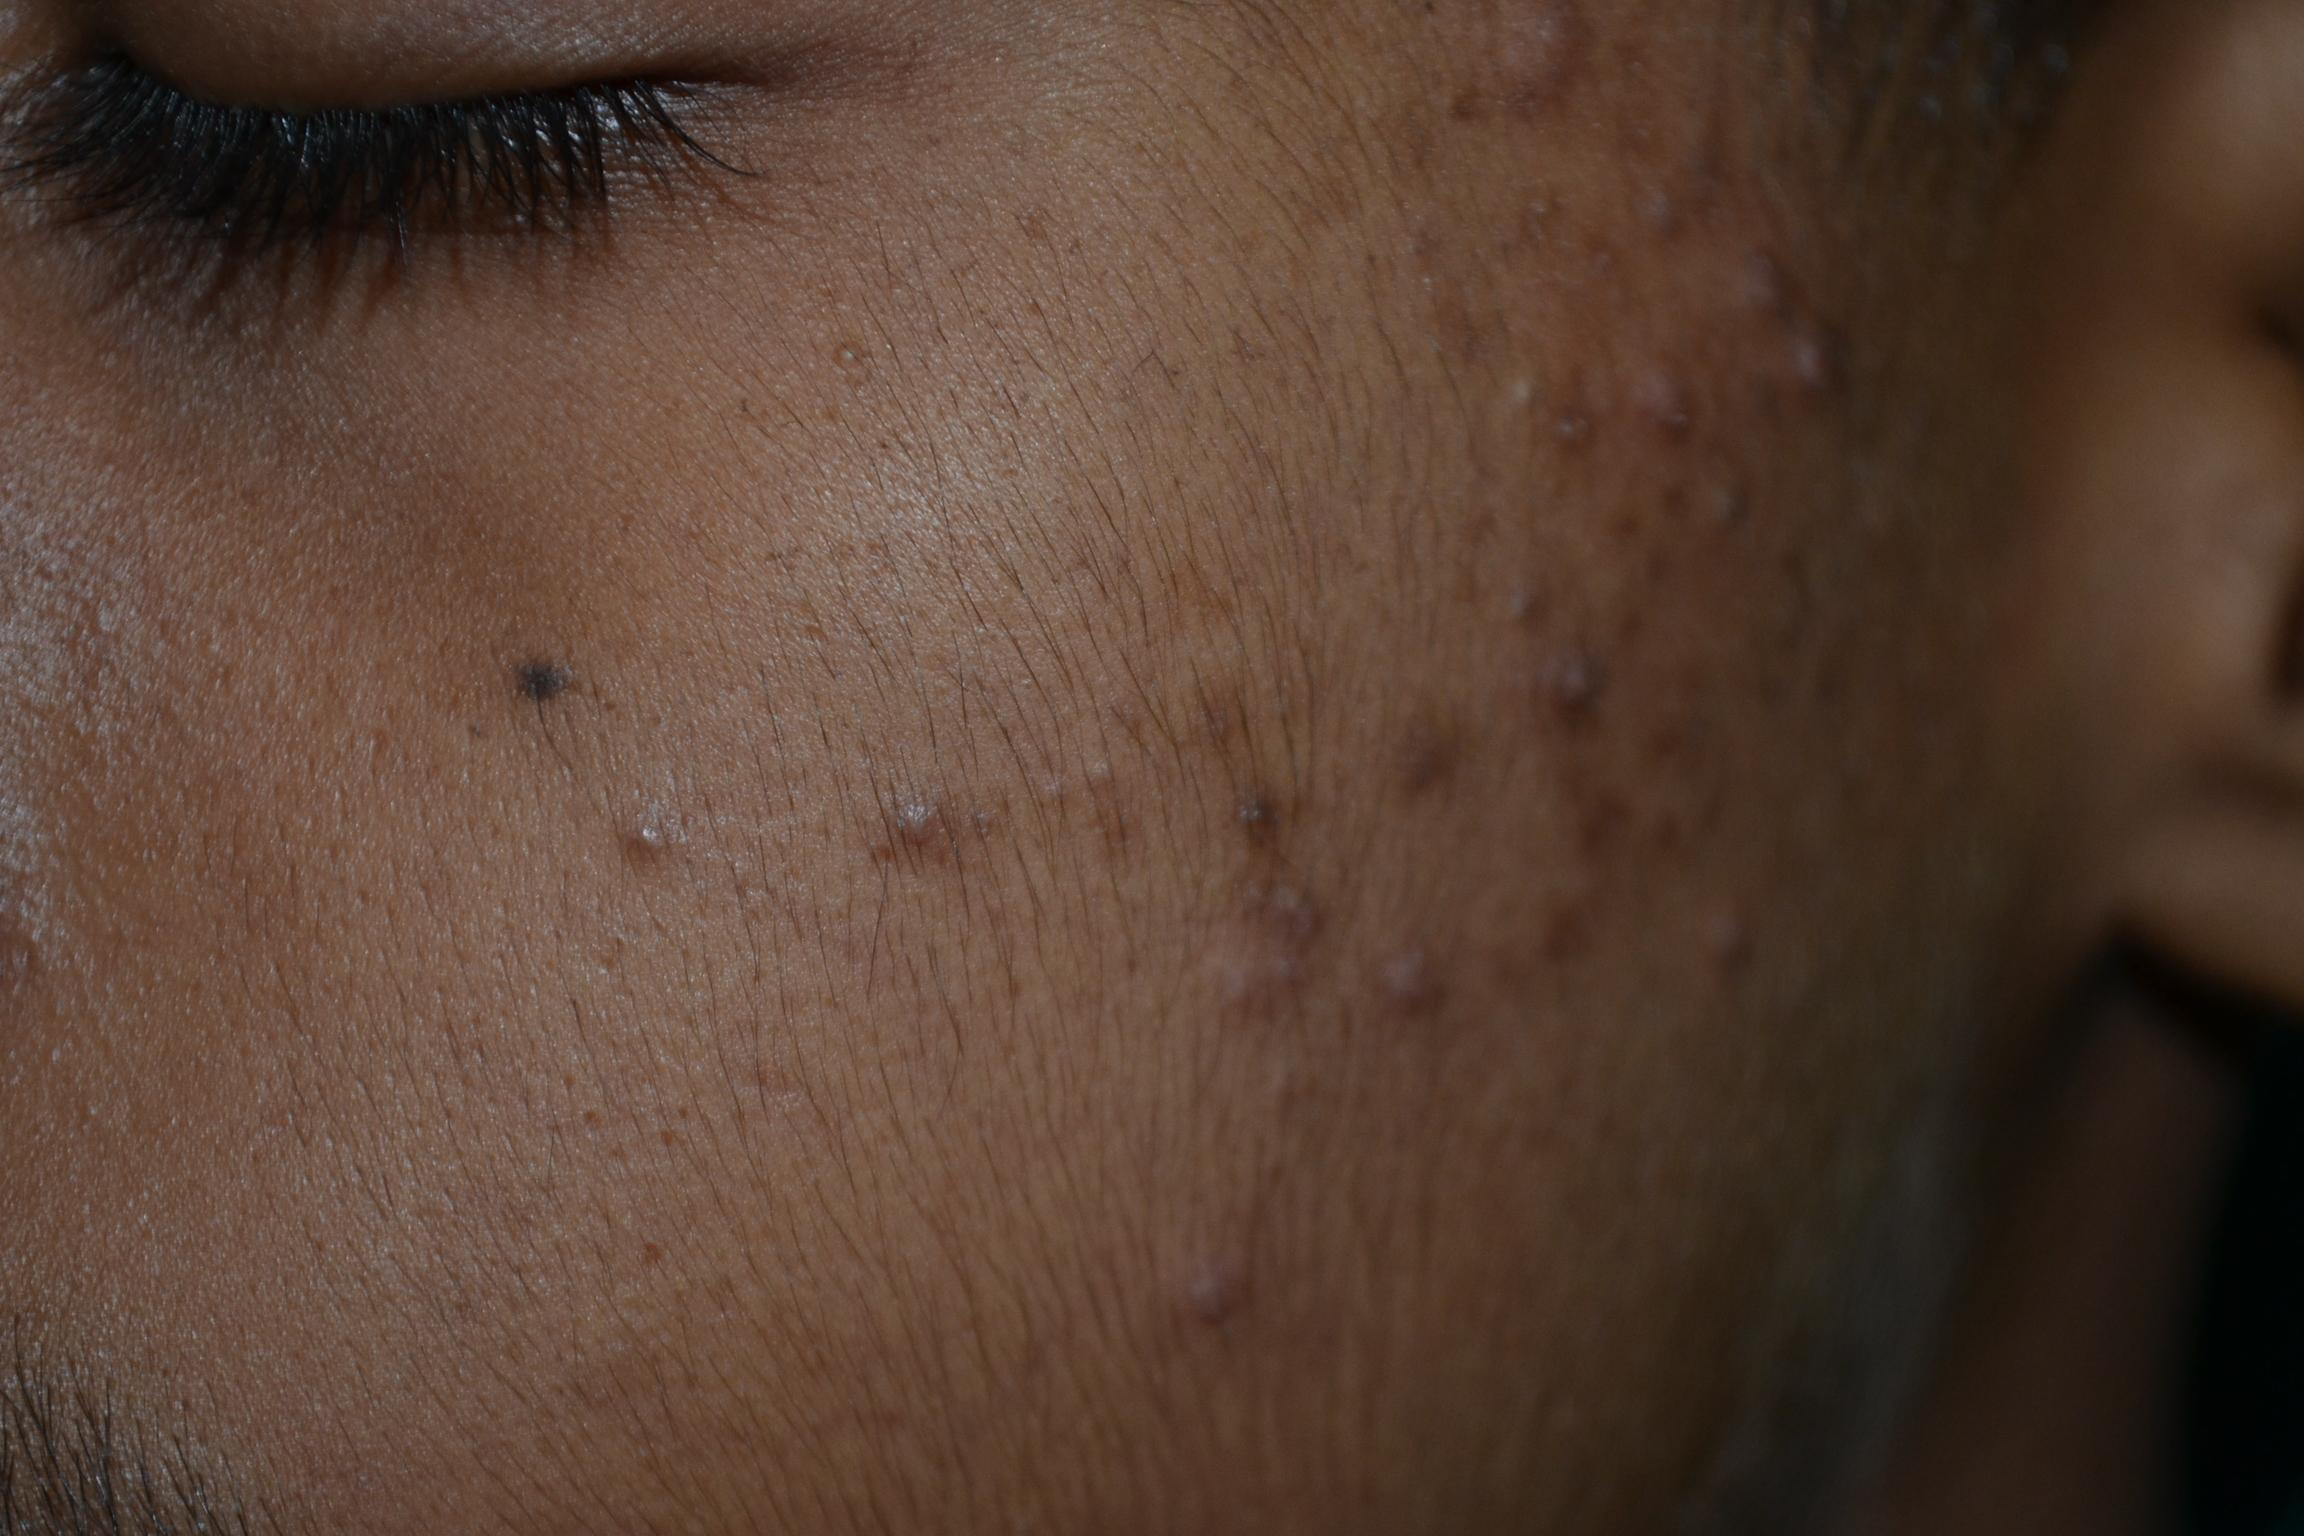acne marks: (1087, 142, 1906, 1294)
